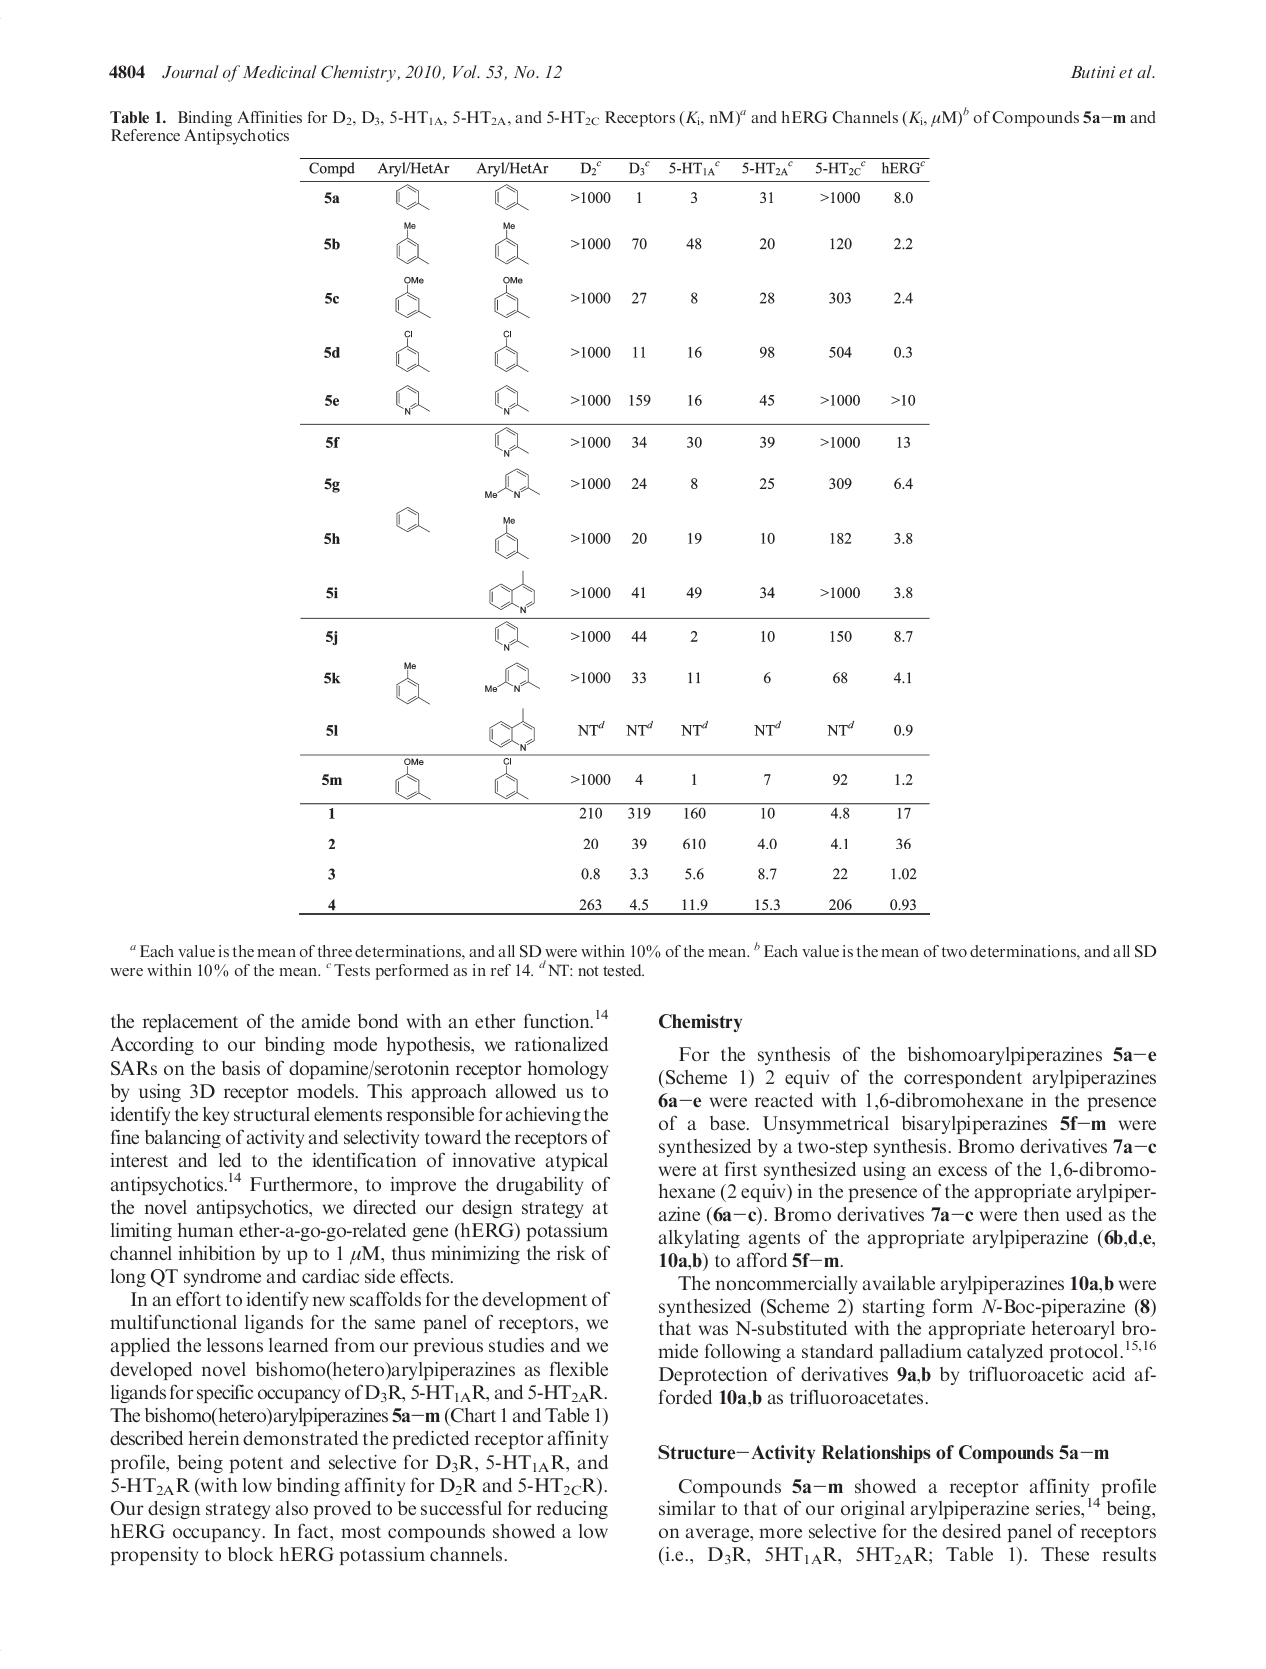exist_molecular: (488, 568, 537, 614), (488, 707, 536, 751), (484, 467, 541, 501), (484, 662, 543, 694), (394, 275, 434, 321), (493, 275, 531, 321), (493, 515, 531, 560), (394, 660, 431, 705), (394, 328, 431, 372), (493, 757, 531, 801), (394, 757, 431, 801), (493, 222, 528, 266), (493, 328, 528, 372), (395, 219, 428, 265), (394, 382, 430, 418), (493, 426, 529, 457), (493, 621, 531, 652), (493, 384, 528, 416), (493, 184, 531, 213), (395, 507, 432, 535), (394, 184, 430, 211)
